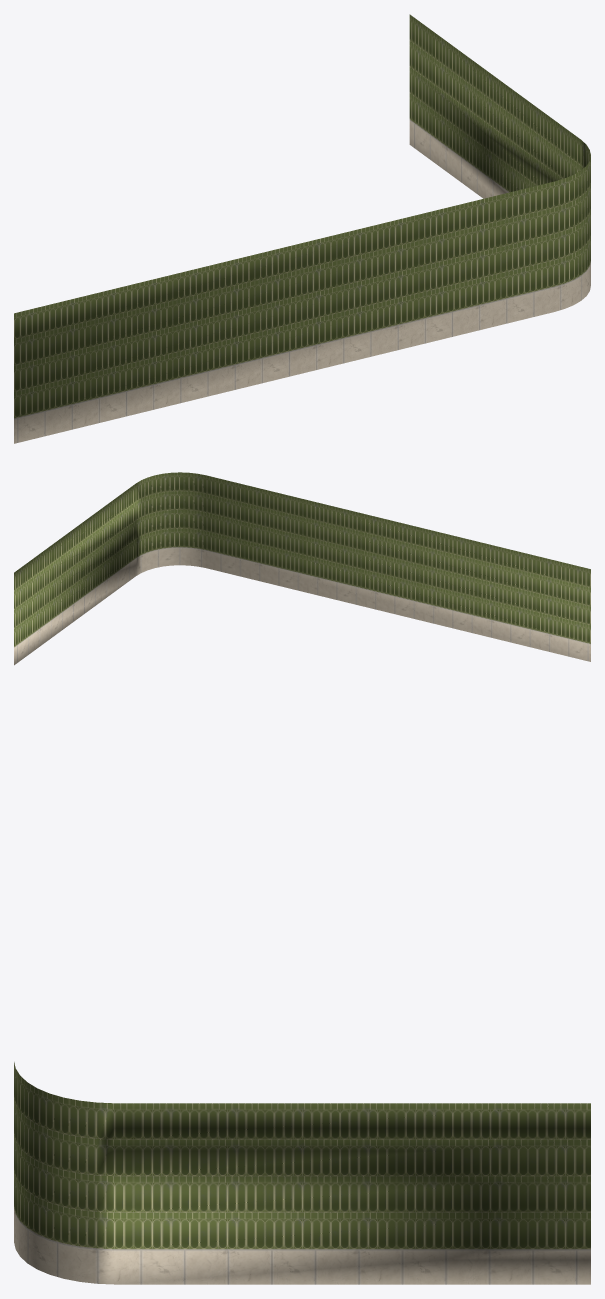
Rendered from HallwayWall.fbx.
3 renders of one model, top to bottom at view 1: azimuth 30°, elevation 25°; view 2: azimuth 150°, elevation 25°; view 3: azimuth 270°, elevation 25°, orthographic. The views are drawn at different scales.
Parts seen in each view (by area): view 1: Pilars.007; view 2: Pilars.007; view 3: Pilars.007.
Boxes of the visible parts, box(x1,y1,x2,y2) form: Pilars.007: box(14, 14, 590, 443); Pilars.007: box(14, 472, 590, 665); Pilars.007: box(14, 1062, 590, 1284).
Bounding box in the file's own units: 12432 × 2570 × 7416.
